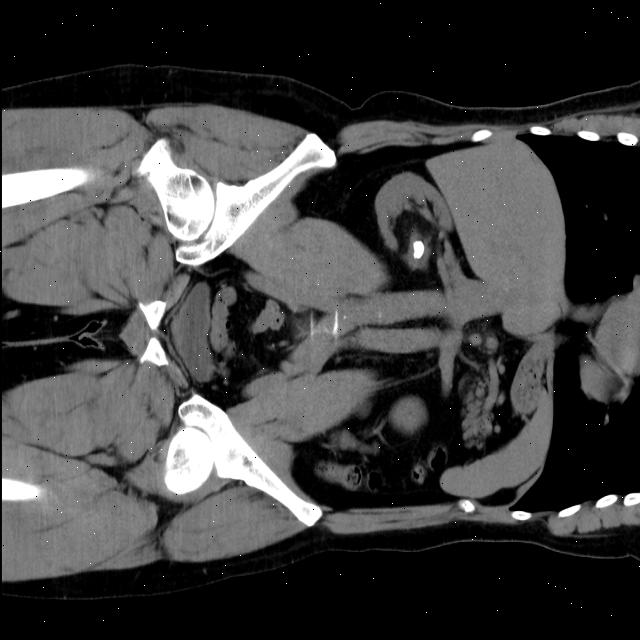kidneystone: (411, 239, 425, 261)
